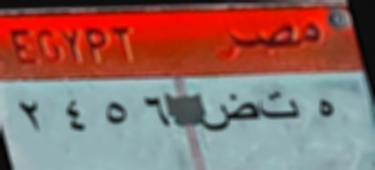2: (14, 95, 44, 134)
4: (64, 95, 87, 139)
5: (106, 96, 129, 134)
6: (143, 91, 173, 133)
daad: (206, 89, 256, 138)
haa: (308, 90, 340, 130)
taa: (259, 88, 300, 128)
